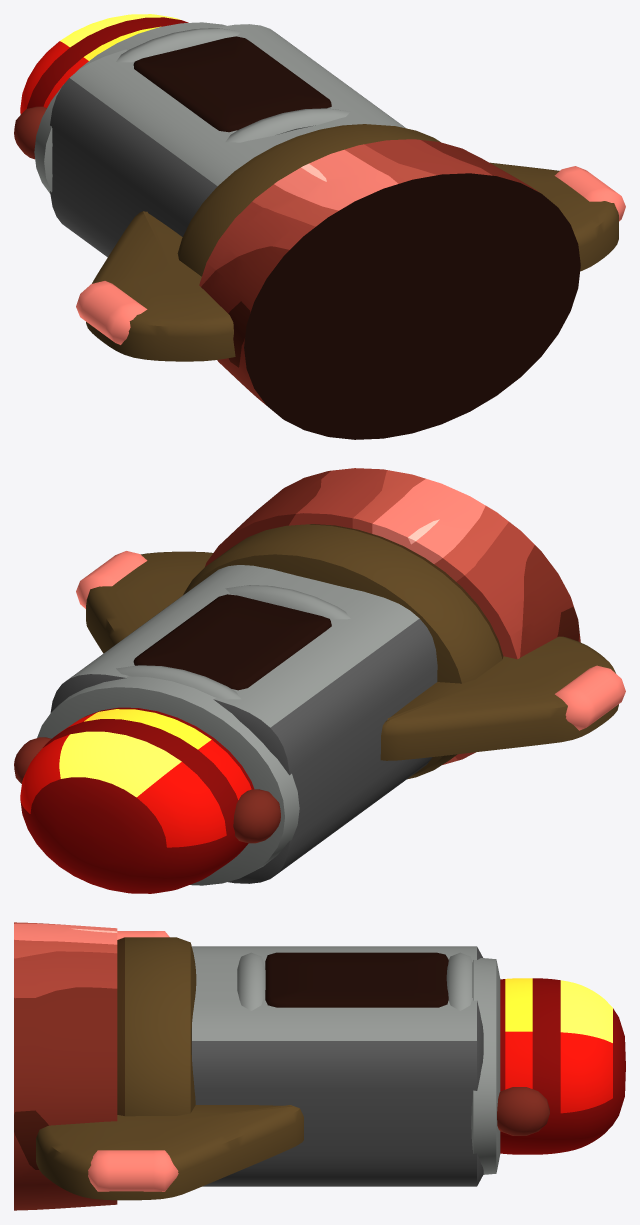
File: ixm_pod_top.glb
3 views of the same model, one above another, from view 1: azimuth 30°, elevation 25°; view 2: azimuth 150°, elevation 25°; view 3: azimuth 270°, elevation 25° (orthographic). The views are drawn at different scales.
Parts seen in each view (by area): view 1: ixm_pod_top; view 2: ixm_pod_top; view 3: ixm_pod_top.
Part boxes in pixels (x1,y1,x2,y2): ixm_pod_top: [14, 14, 625, 439]; ixm_pod_top: [14, 468, 625, 893]; ixm_pod_top: [14, 922, 625, 1210].
Size of the model in its own units: 22 by 10.36 by 23.72.
